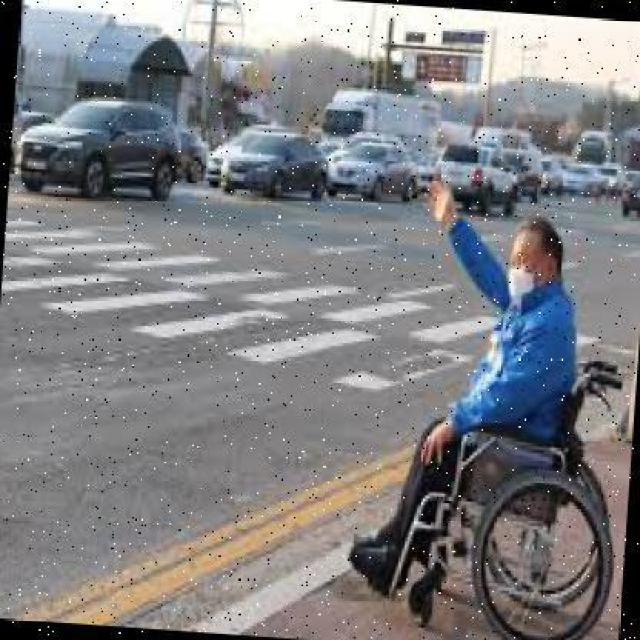Person: (351, 176, 638, 638)
